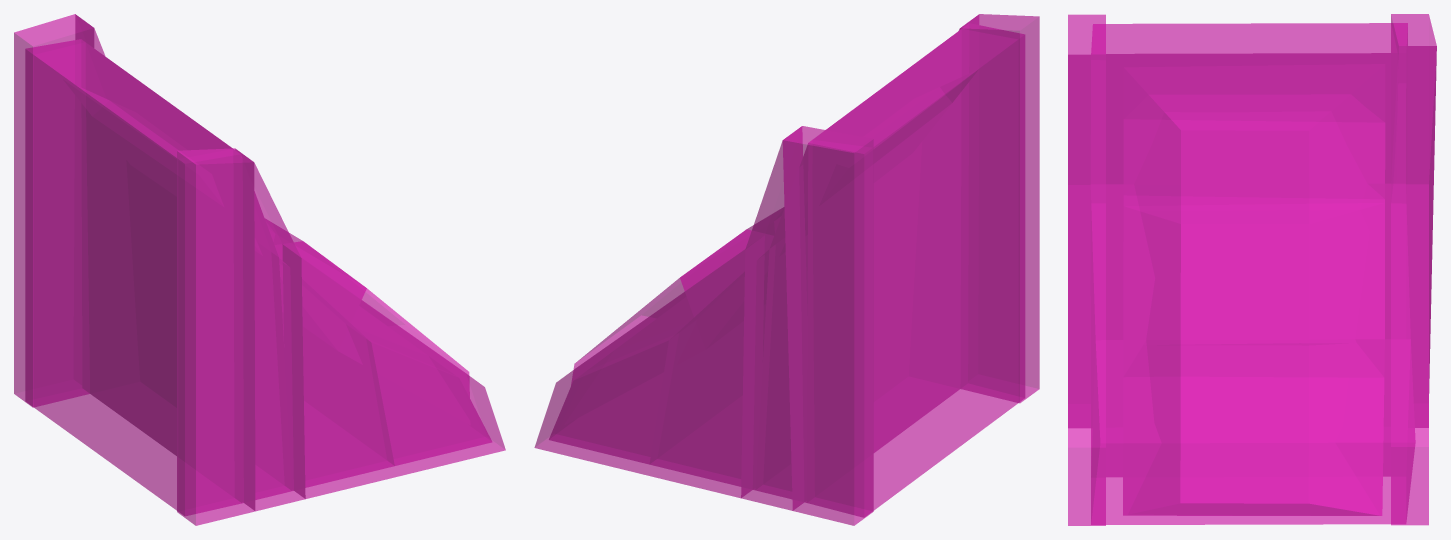
The model's file is SM_Bld_Wall_L_Damaged_02_Collision.fbx.
3 renders of one model, left to right at view 1: azimuth 30°, elevation 25°; view 2: azimuth 150°, elevation 25°; view 3: azimuth 270°, elevation 25°, orthographic. The views are drawn at different scales.
Visible parts, largest first — view 1: SM_Bld_Wall_L_Damaged_02_Collision; view 2: SM_Bld_Wall_L_Damaged_02_Collision; view 3: SM_Bld_Wall_L_Damaged_02_Collision.
Boxes of the visible parts, box(x1,y1,x2,y2) form: SM_Bld_Wall_L_Damaged_02_Collision: box(14, 14, 505, 525); SM_Bld_Wall_L_Damaged_02_Collision: box(534, 14, 1039, 525); SM_Bld_Wall_L_Damaged_02_Collision: box(1068, 14, 1436, 525).
Size of the model in its own units: 585 by 609 by 565.
